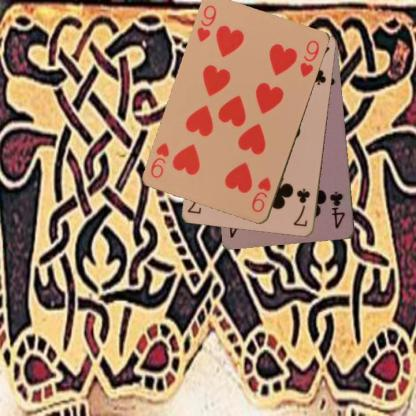4c: (327, 189, 347, 230)
7c: (290, 186, 312, 228)
9h: (194, 3, 218, 44), (249, 174, 273, 214)
